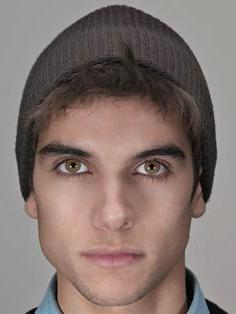Sober: (46, 90, 190, 283)
